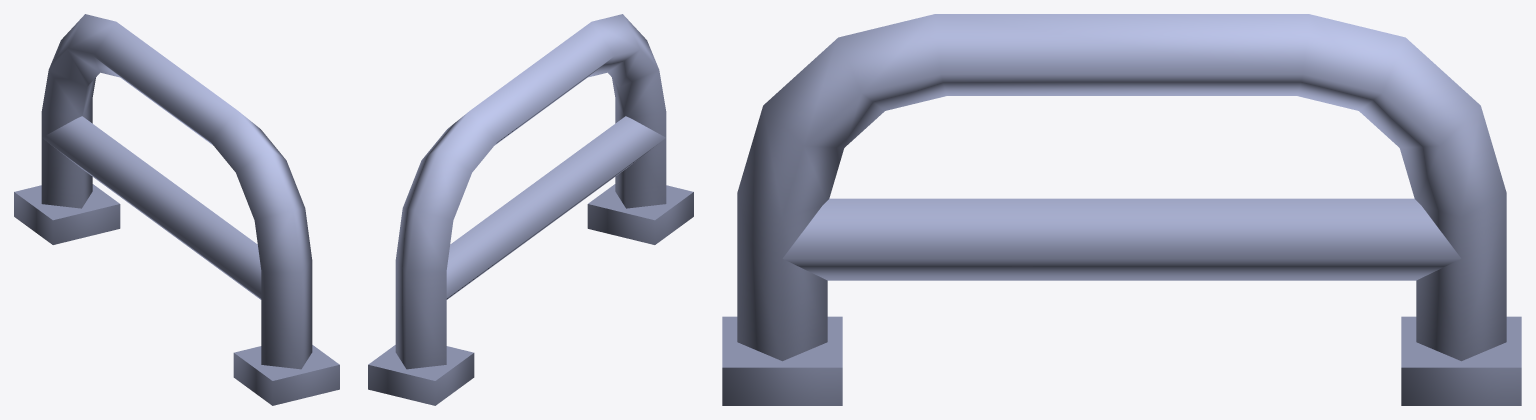
Rendered from site-fence.glb.
The picture shows the model from 3 angles, left to right: view 1: azimuth 30°, elevation 25°; view 2: azimuth 150°, elevation 25°; view 3: azimuth 270°, elevation 25°; orthographic projection. The views are drawn at different scales.
Parts seen in each view (by area): view 1: construction-fence; view 2: construction-fence; view 3: construction-fence.
Part boxes in pixels (x1,y1,x2,y2): construction-fence: (14,14,339,405); construction-fence: (368,14,693,405); construction-fence: (722,14,1521,405).
Size of the model in its own units: 0.053 by 0.1787 by 0.353.
1 material, 1 textured.
